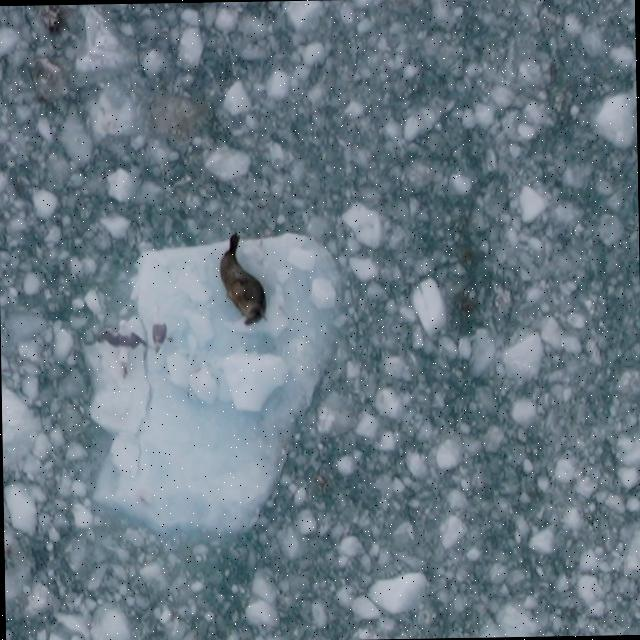seal: (212, 228, 273, 336)
